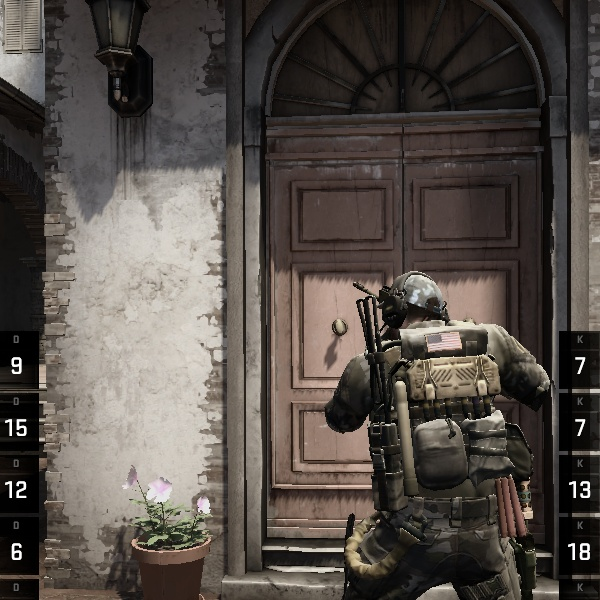ct_body: (299, 268, 557, 600)
ct_head: (362, 261, 458, 371)
